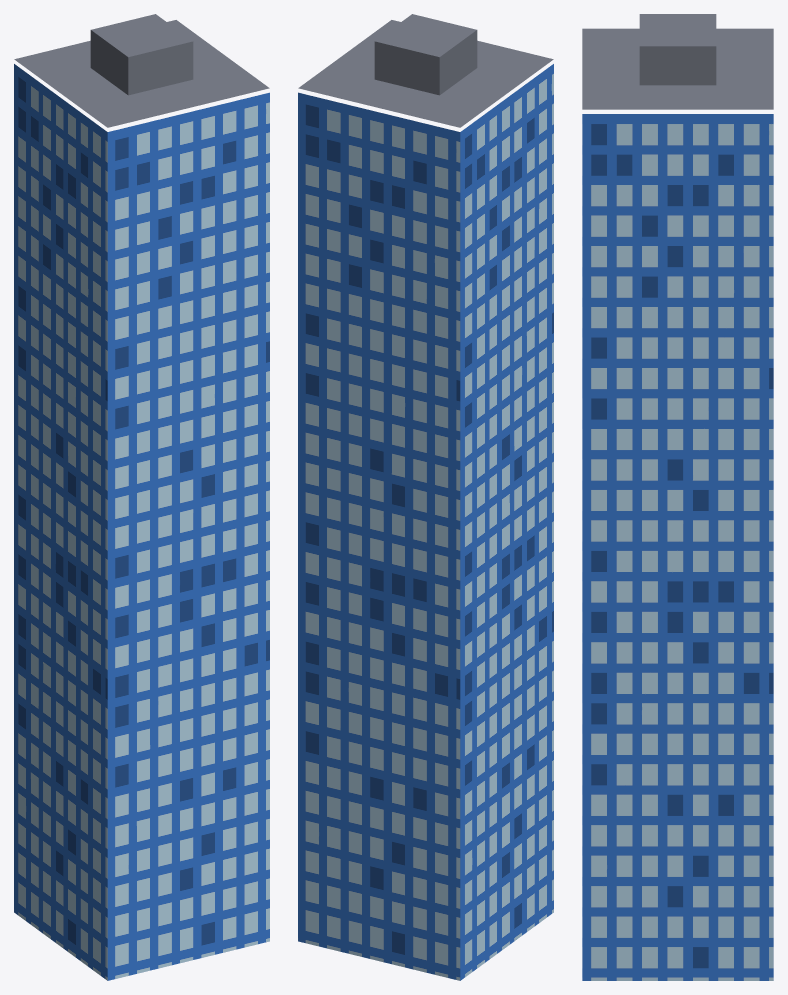
Rendered from skyscraper_blue.glb.
3 renders of one model, left to right at view 1: azimuth 30°, elevation 25°; view 2: azimuth 150°, elevation 25°; view 3: azimuth 270°, elevation 25°, orthographic. The views are drawn at different scales.
Visible parts, largest first — view 1: skyscraper_blue; view 2: skyscraper_blue; view 3: skyscraper_blue.
Part boxes in pixels (x1=…): skyscraper_blue: x1=14, y1=14, x2=269, y2=980; skyscraper_blue: x1=298, y1=14, x2=553, y2=980; skyscraper_blue: x1=582, y1=14, x2=773, y2=980.
Size of the model in its own units: 4 by 21 by 4.
2 materials, 1 textured.
